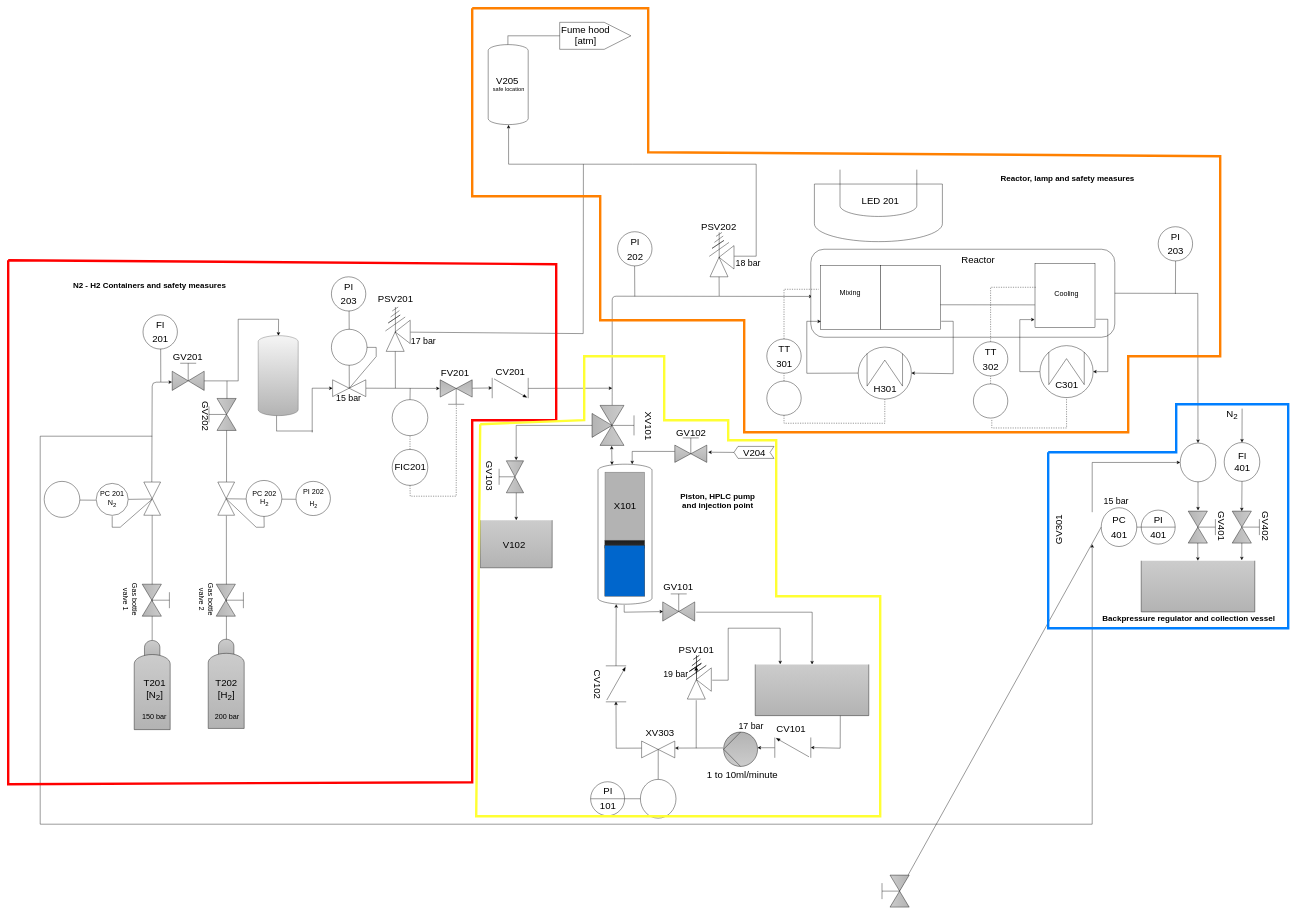
This 1308x914 diagram has some shape labels left out. The centre of each missing label's shape, as x and y in pixels:
"BPR 401" goes at point (1198, 462).
"FT201" goes at point (410, 417).
"Heating" goes at point (910, 297).
"P101" goes at point (740, 749).
"PC 101" goes at point (658, 798).
"PC 203" goes at point (349, 347).
"PI 201 N 2" goes at point (62, 499).
"TIC 301" goes at point (783, 398).
"TIC 302" goes at point (990, 400).
"V101" goes at point (812, 690).
"V201" goes at point (278, 375).
"V401" goes at point (1198, 586).
